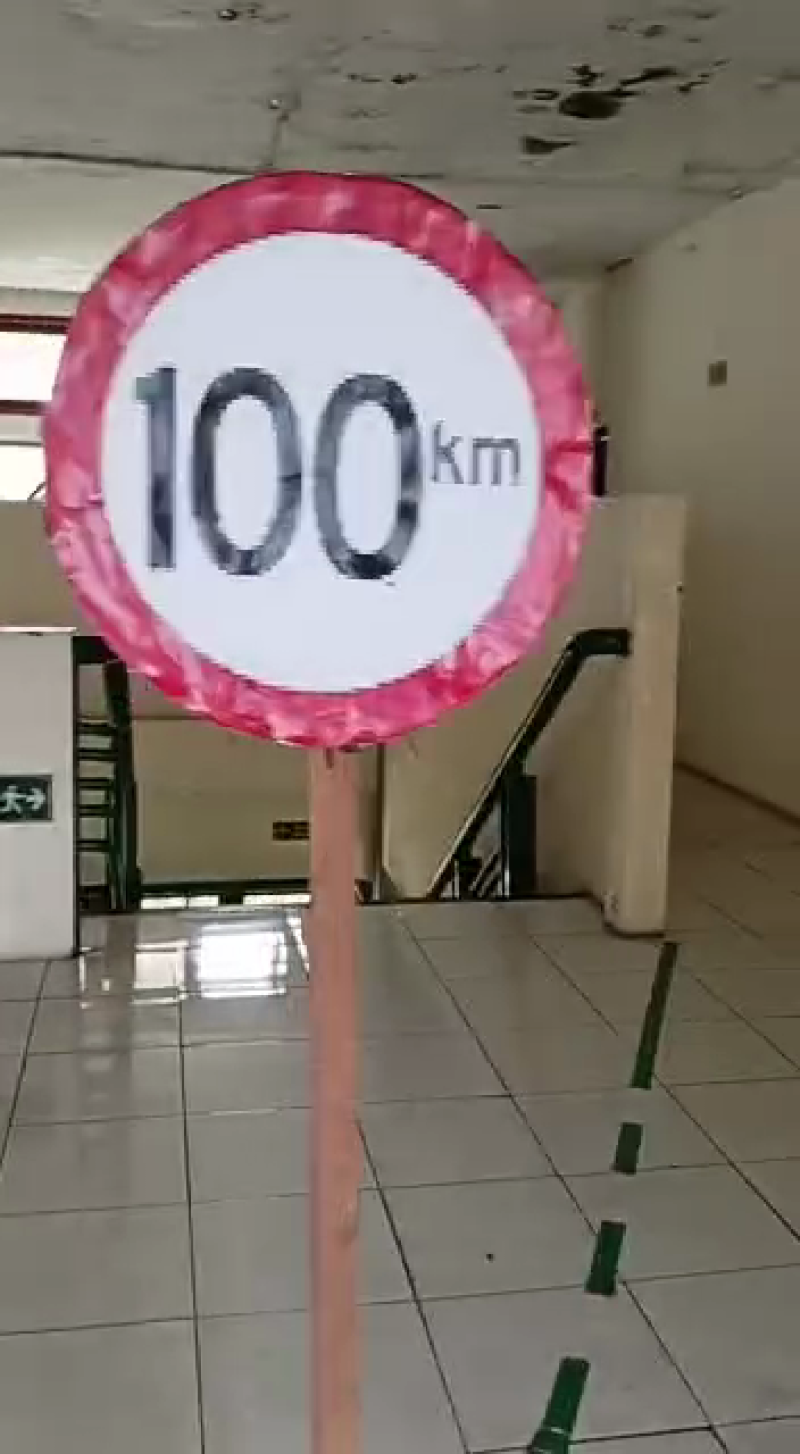batas maksimal 100kmperjam: (37, 156, 598, 756)
